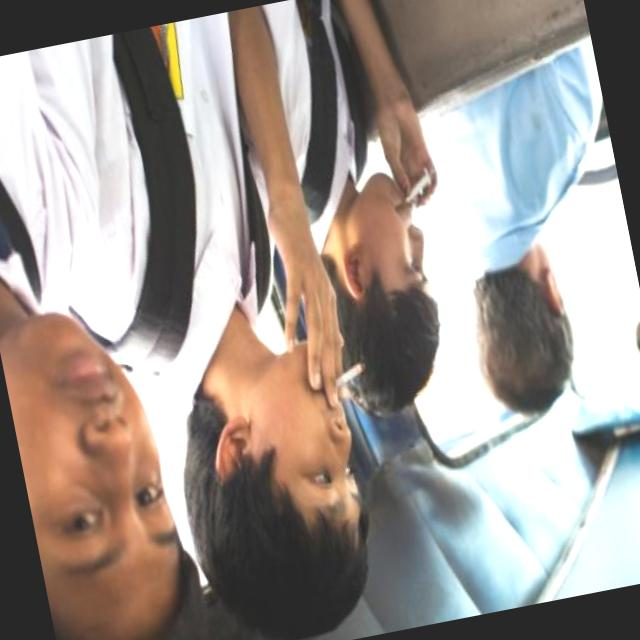smoke: (316, 344, 384, 416), (389, 160, 452, 230)
